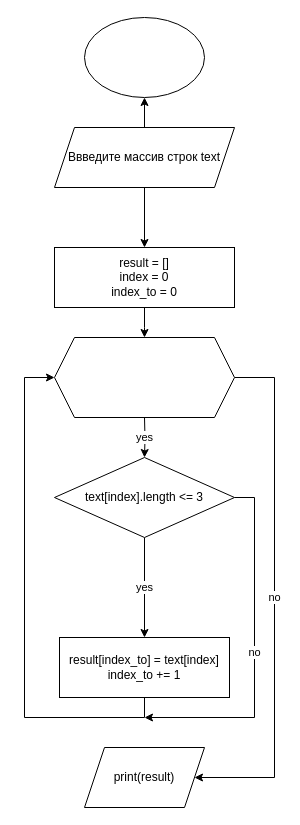
The diagram is 300 pixels wide and 825 high, and some of its shapes have lost their labels. Each missing label, with the centre of its shape:
Начало: the point at 144,57
От Index = 0 до text.length -1: the point at 144,377
